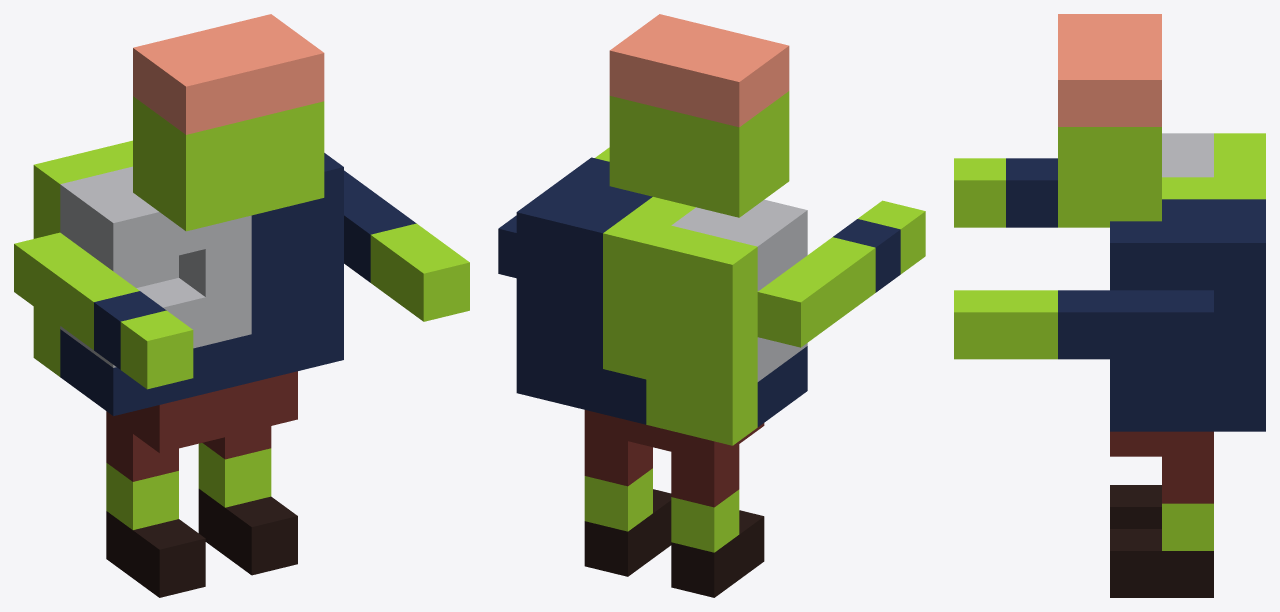
Rendered from zombie_idle_1.obj.
3 views of the same model, side by side, from view 1: azimuth 30°, elevation 25°; view 2: azimuth 150°, elevation 25°; view 3: azimuth 270°, elevation 25° (orthographic). The views are drawn at different scales.
Bounding box in the file's own units: 0.7 × 1.1 × 0.6.
1 material, 1 textured.
